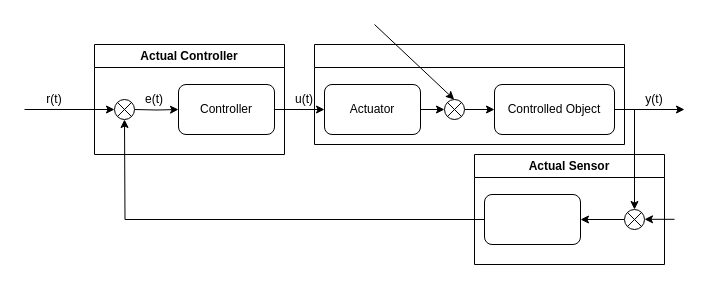
The diagram is 710 pixels wide and 282 high, and some of its shapes have lost their labels. The box of each missing label's shape, as (x1, y1, x2, y2) in pixels:
Actual Controlled Object: (314, 44, 624, 144)
Sensor: (484, 194, 580, 244)
